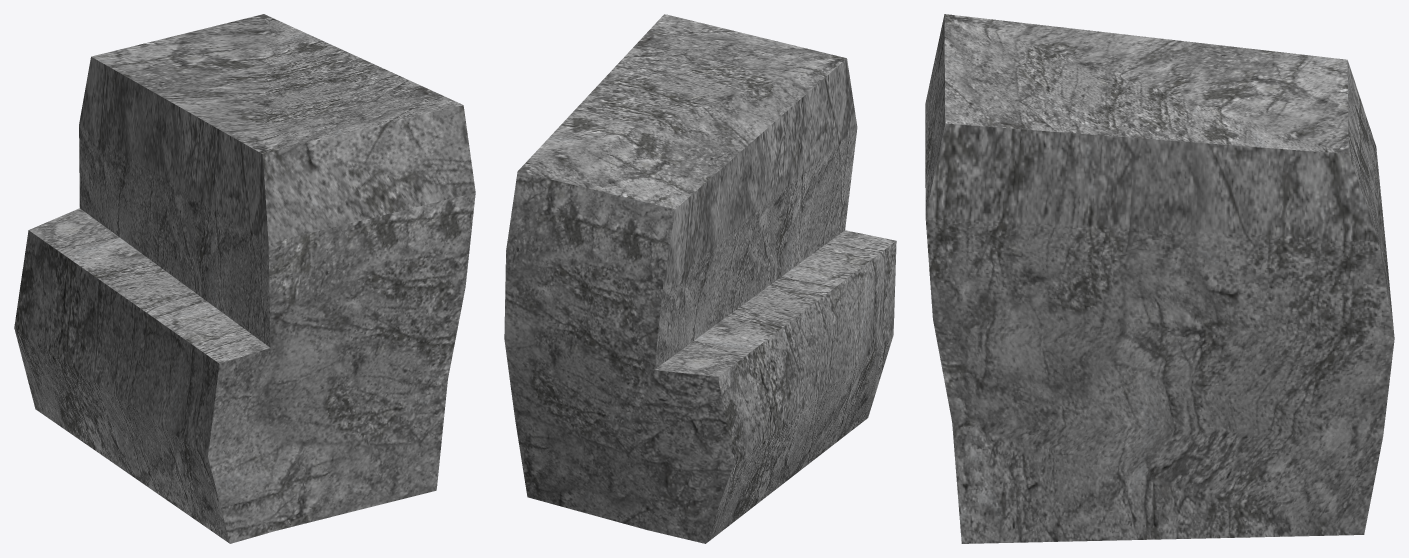
File: materials_3_rubble_11.fbx
3 renders of one model, left to right at view 1: azimuth 30°, elevation 25°; view 2: azimuth 150°, elevation 25°; view 3: azimuth 270°, elevation 25°, orthographic. The views are drawn at different scales.
Visible parts, largest first — view 1: materials_3_rubble_11; view 2: materials_3_rubble_11; view 3: materials_3_rubble_11.
Part boxes in pixels (<box>): materials_3_rubble_11: <box>14,14,475,543</box>; materials_3_rubble_11: <box>504,14,896,543</box>; materials_3_rubble_11: <box>925,14,1394,543</box>.
Bounding box in the file's own units: 45.04 × 62.41 × 61.53.
